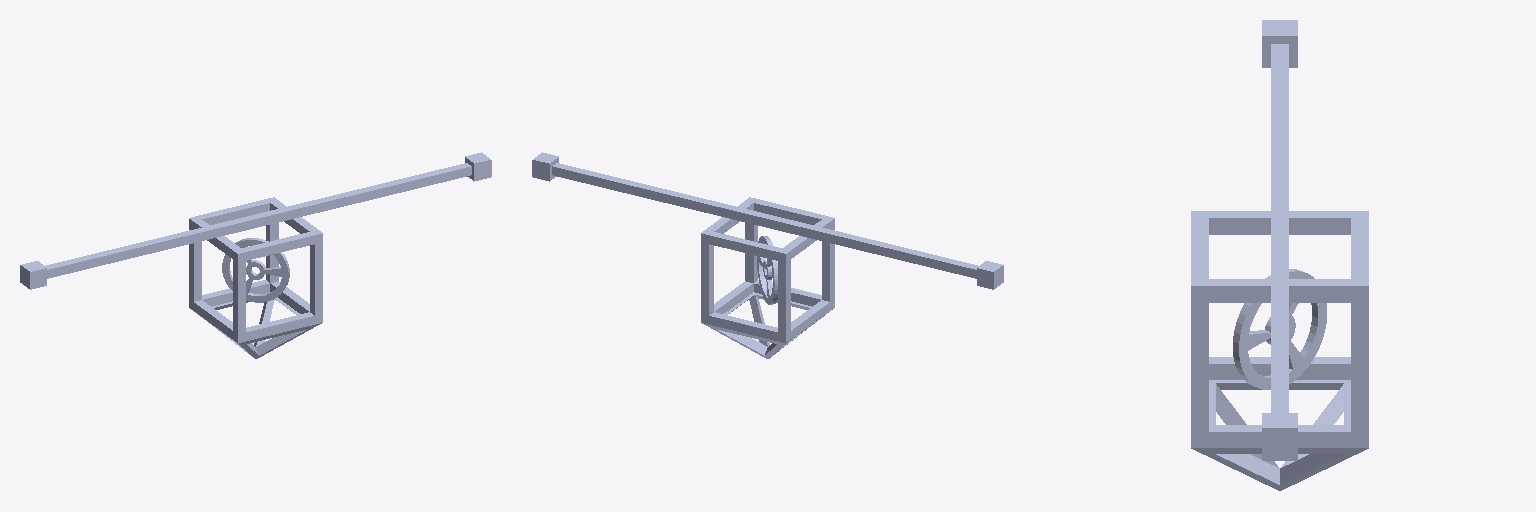
robot.urdf — wheel_legged_open:
<?xml version="1.0" encoding="utf-8"?>
<!-- This URDF was automatically created by SolidWorks to URDF Exporter! Originally created by [author] ([email redacted]) 
     Commit Version: 1.6.0-4-g7f85cfe  Build Version: 1.6.7995.38578
     For more information, please see http://wiki.ros.org/sw_urdf_exporter -->
<robot
  name="wheel_legged_open">
  <link
    name="base_link">
    <inertial>
      <origin
        xyz="0 0.0067 0.123056"
        rpy="0 0 0" />
      <mass
        value="8.8" />
      <inertia
        ixx="0.326092"
        ixy="3.6E-05"
        ixz="-0.00115"
        iyy="0.229526"
        iyz="0.006798"
        izz="0.220537" />
    </inertial>
    <visual>
      <origin
        xyz="0 0 0"
        rpy="0 0 0" />
      <geometry>
        <mesh
          filename="package://wheel_legged_open/meshes/base_link.STL" />
      </geometry>
      <material
        name="">
        <color
          rgba="0.79216 0.81961 0.93333 1" />
      </material>
    </visual>
    <collision>
      <origin
        xyz="0 0 0"
        rpy="0 0 0" />
      <geometry>
        <mesh
          filename="package://wheel_legged_open/meshes/base_link.STL" />
      </geometry>
    </collision>
  </link>
  <link
    name="lf0_Link">
    <inertial>
      <origin
        xyz="0.05976637 -0.00048182 0.01198236"
        rpy="0 0 0" />
      <mass
        value="0.16" />
      <inertia
        ixx="0.00006424"
        ixy="0.00000030"
        ixz="0.00012472"
        iyy="0.00116066"
        iyz="-0.00000101"
        izz="0.00117029" />
    </inertial>
    <visual>
      <origin
        xyz="0 0 0"
        rpy="0 0 0" />
      <geometry>
        <mesh
          filename="package://wheel_legged_open/meshes/lf0_Link.STL" />
      </geometry>
      <material
        name="">
        <color
          rgba="0.792156862745098 0.819607843137255 0.933333333333333 1" />
      </material>
    </visual>
    <collision>
      <origin
        xyz="0 0 0"
        rpy="0 0 0" />
      <geometry>
        <mesh
          filename="package://wheel_legged_open/meshes/lf0_Link.STL" />
      </geometry>
    </collision>
  </link>
  <joint
    name="lf0_Joint"
    type="revolute">
    <origin
      xyz="0.054 0.1705 0.131"
      rpy="-1.5708 0 0" />
    <parent
      link="base_link" />
    <child
      link="lf0_Link" />
    <axis
      xyz="0 0 1" />
    <limit
      lower="-0.3363"
      upper="1.3479"
      effort="30"
      velocity="1000" />
  </joint>
  <link
    name="lf1_Link">
    <inertial>
      <origin
        xyz="-0.00032544 0.15899848 0.00798168"
        rpy="0 0 0" />
      <mass
        value="0.36" />
      <inertia
        ixx="0.01248770"
        ixy="-0.00000383"
        ixz="-0.00000106"
        iyy="0.00011869"
        iyz="0.00042404"
        izz="0.01251325" />
    </inertial>
    <visual>
      <origin
        xyz="0 0 0"
        rpy="0 0 0" />
      <geometry>
        <mesh
          filename="package://wheel_legged_open/meshes/lf1_Link.STL" />
      </geometry>
      <material
        name="">
        <color
          rgba="0.792156862745098 0.819607843137255 0.933333333333333 1" />
      </material>
    </visual>
    <collision>
      <origin
        xyz="0 0 0"
        rpy="0 0 0" />
      <geometry>
        <mesh
          filename="package://wheel_legged_open/meshes/lf1_Link.STL" />
      </geometry>
    </collision>
  </link>
  <joint
    name="lf1_Joint"
    type="revolute">
    <origin
      xyz="0.15 -0.00010199 0.0205"
      rpy="0 0 0" />
    <parent
      link="lf0_Link" />
    <child
      link="lf1_Link" />
    <axis
      xyz="0 0 1" />
    <limit
      effort="30"
      velocity="1000" />
  </joint>
  <link
    name="l_Wheel_Link">
    <inertial>
      <origin
        xyz="-0.00004507 -0.00038447 0.02376028"
        rpy="0 0 0" />
      <mass
        value="1.22" />
      <inertia
        ixx="0.00174370"
        ixy="-0.00000195"
        ixz="-0.00000028"
        iyy="0.00176013"
        iyz="-0.00000241"
        izz="0.00173973" />
    </inertial>
    <visual>
      <origin
        xyz="0 0 0"
        rpy="0 0 0" />
      <geometry>
        <mesh
          filename="package://wheel_legged_open/meshes/l_Wheel_Link.STL" />
      </geometry>
      <material
        name="">
        <color
          rgba="0.792156862745098 0.819607843137255 0.933333333333333 1" />
      </material>
    </visual>
    <collision>
      <origin
        xyz="0 0 0"
        rpy="0 0 0" />
      <geometry>
        <mesh
          filename="package://wheel_legged_open/meshes/l_Wheel_Link.STL" />
      </geometry>
    </collision>
  </link>
  <joint
    name="l_Wheel_Joint"
    type="revolute">
    <origin
      xyz="1.857E-05 0.25 0.0275"
      rpy="0 0 0" />
    <parent
      link="lf1_Link" />
    <child
      link="l_Wheel_Link" />
    <axis
      xyz="0 0 1" />
    <limit
      effort="5"
      velocity="1000" />
  </joint>
  <link
    name="rf0_Link">
    <inertial>
      <origin
        xyz="0.05976637 -0.00048182 0.01198236"
        rpy="0 0 0" />
      <mass
        value="0.16" />
      <inertia
        ixx="0.00006424"
        ixy="0.00000174"
        ixz="0.00012472"
        iyy="0.00116066"
        iyz="-0.00000084"
        izz="0.00117029" />
    </inertial>
    <visual>
      <origin
        xyz="0 0 0"
        rpy="0 0 0" />
      <geometry>
        <mesh
          filename="package://wheel_legged_open/meshes/rf0_Link.STL" />
      </geometry>
      <material
        name="">
        <color
          rgba="0.792156862745098 0.819607843137255 0.933333333333333 1" />
      </material>
    </visual>
    <collision>
      <origin
        xyz="0 0 0"
        rpy="0 0 0" />
      <geometry>
        <mesh
          filename="package://wheel_legged_open/meshes/rf0_Link.STL" />
      </geometry>
    </collision>
  </link>
  <joint
    name="rf0_Joint"
    type="revolute">
    <origin
      xyz="0.054 -0.1705 0.131"
      rpy="1.5708 0 0" />
    <parent
      link="base_link" />
    <child
      link="rf0_Link" />
    <axis
      xyz="0 0 1" />
    <limit
      lower="-1.3479"
      upper="0.3363"
      effort="30"
      velocity="1000" />
  </joint>
  <link
    name="rf1_Link">
    <inertial>
      <origin
        xyz="0.00032544 -0.15899848 0.00798168"
        rpy="0 0 0" />
      <mass
        value="0.36" />
      <inertia
        ixx="0.01248770"
        ixy="-0.00000553"
        ixz="0.00000112"
        iyy="0.00011869"
        iyz="-0.00042404"
        izz="0.01251325" />
    </inertial>
    <visual>
      <origin
        xyz="0 0 0"
        rpy="0 0 0" />
      <geometry>
        <mesh
          filename="package://wheel_legged_open/meshes/rf1_Link.STL" />
      </geometry>
      <material
        name="">
        <color
          rgba="0.792156862745098 0.819607843137255 0.933333333333333 1" />
      </material>
    </visual>
    <collision>
      <origin
        xyz="0 0 0"
        rpy="0 0 0" />
      <geometry>
        <mesh
          filename="package://wheel_legged_open/meshes/rf1_Link.STL" />
      </geometry>
    </collision>
  </link>
  <joint
    name="rf1_Joint"
    type="revolute">
    <origin
      xyz="0.15 9.5536E-05 0.0205"
      rpy="0 0 0" />
    <parent
      link="rf0_Link" />
    <child
      link="rf1_Link" />
    <axis
      xyz="0 0 1" />
    <limit
      effort="30"
      velocity="1000" />
  </joint>
  <link
    name="r_Wheel_Link">
    <inertial>
      <origin
        xyz="0.00038403 0.00004865 0.02376028"
        rpy="0 0 0" />
      <mass
        value="1.22" />
      <inertia
        ixx="0.00176009"
        ixy="-0.00000211"
        ixz="0.00000241"
        iyy="0.00174374"
        iyz="0.00000031"
        izz="0.00173973" />
    </inertial>
    <visual>
      <origin
        xyz="0 0 0"
        rpy="0 0 0" />
      <geometry>
        <mesh
          filename="package://wheel_legged_open/meshes/r_Wheel_Link.STL" />
      </geometry>
      <material
        name="">
        <color
          rgba="0.792156862745098 0.819607843137255 0.933333333333333 1" />
      </material>
    </visual>
    <collision>
      <origin
        xyz="0 0 0"
        rpy="0 0 0" />
      <geometry>
        <mesh
          filename="package://wheel_legged_open/meshes/r_Wheel_Link.STL" />
      </geometry>
    </collision>
  </link>
  <joint
    name="r_Wheel_Joint"
    type="revolute">
    <origin
      xyz="1.5909E-05 -0.25 0.0275"
      rpy="0 0 0" />
    <parent
      link="rf1_Link" />
    <child
      link="r_Wheel_Link" />
    <axis
      xyz="0 0 1" />
    <limit
      effort="5"
      velocity="1000" />
  </joint>
</robot>

--- Facts derived from the render (not from the file) ---
3 views of the same robot in one strip: view 1: azimuth 30°, elevation 25°; view 2: azimuth 150°, elevation 25°; view 3: azimuth 270°, elevation 25° (orthographic).
Robot: wheel_legged_open — 7 links, 6 joints (6 revolute); root link base_link; default pose: every joint at zero.
Links seen in each view (by area): view 1: base_link; view 2: base_link; view 3: base_link.
Boxes of the visible links, box(x1,y1,x2,y2) form: base_link: box(20, 152, 491, 358); base_link: box(532, 152, 1003, 358); base_link: box(1191, 20, 1368, 490).
Size in the robot's own frame: 0.54 by 0.1 by 0.165 metres.
Meshes: 7 distinct files referenced, 1 mesh visuals loaded (1 binary STL); not drawn: 6 (reference not matched to a file when rendering).